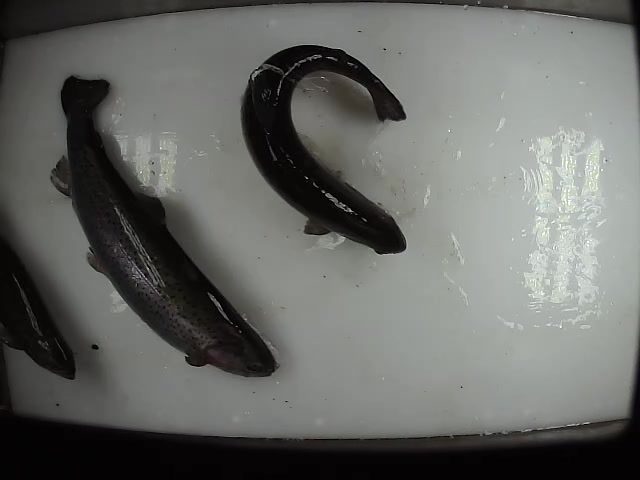fish: (48, 73, 279, 380), (239, 42, 410, 255)
